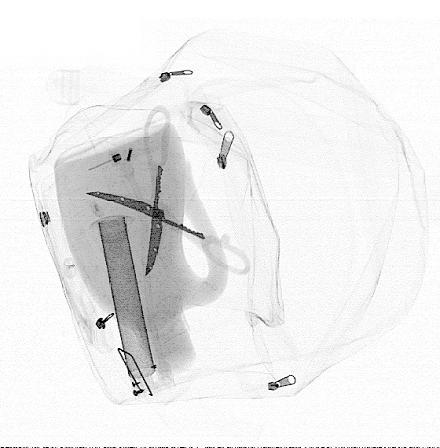Scissors: (84, 103, 252, 278)
